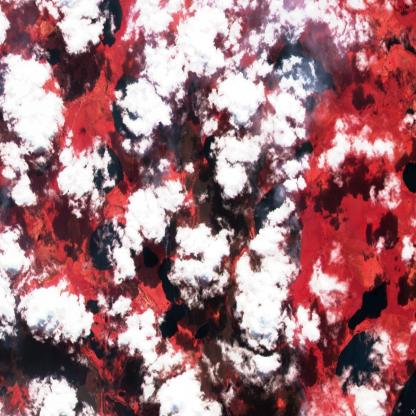fire: (147, 100, 306, 334)
